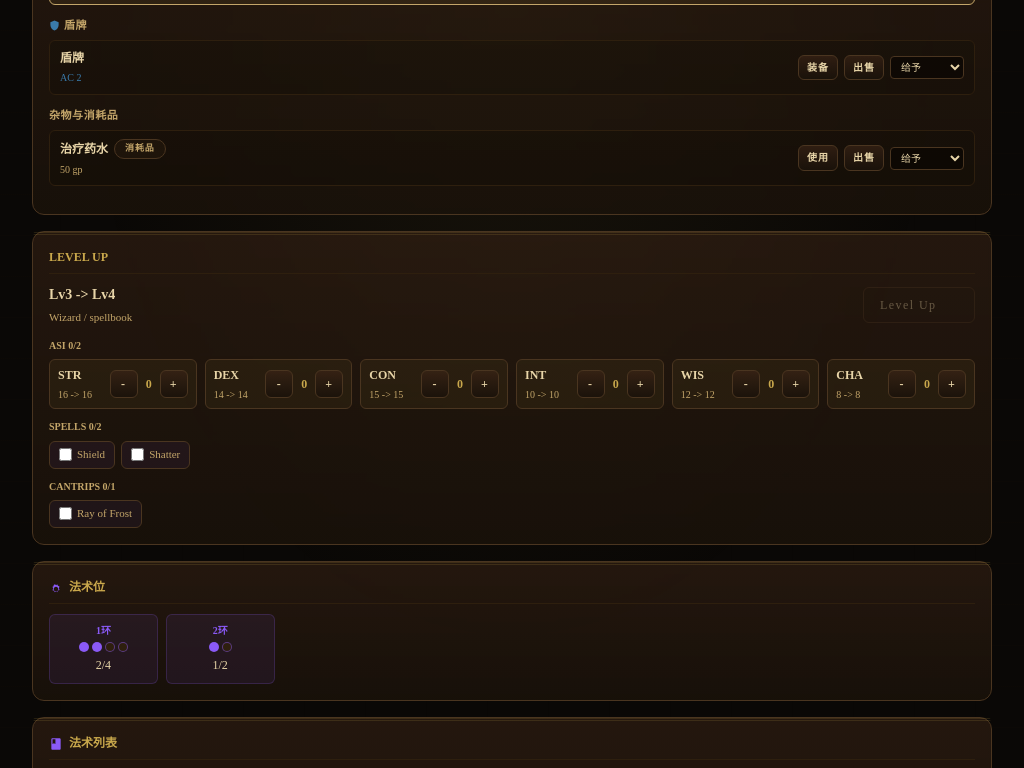
it: CharacterSheet inventory integration › submits selected level-up spell and cantrip choices
(page scrolled)
Expected: the text named "Level 3 to Level 4" reads "Lv3 -> Lv4", x1=49 y1=287 x2=115 y2=302
Step 1. Click the button named "Increase INT" → (641, 384), box x1=627 y1=370 x2=655 y2=398
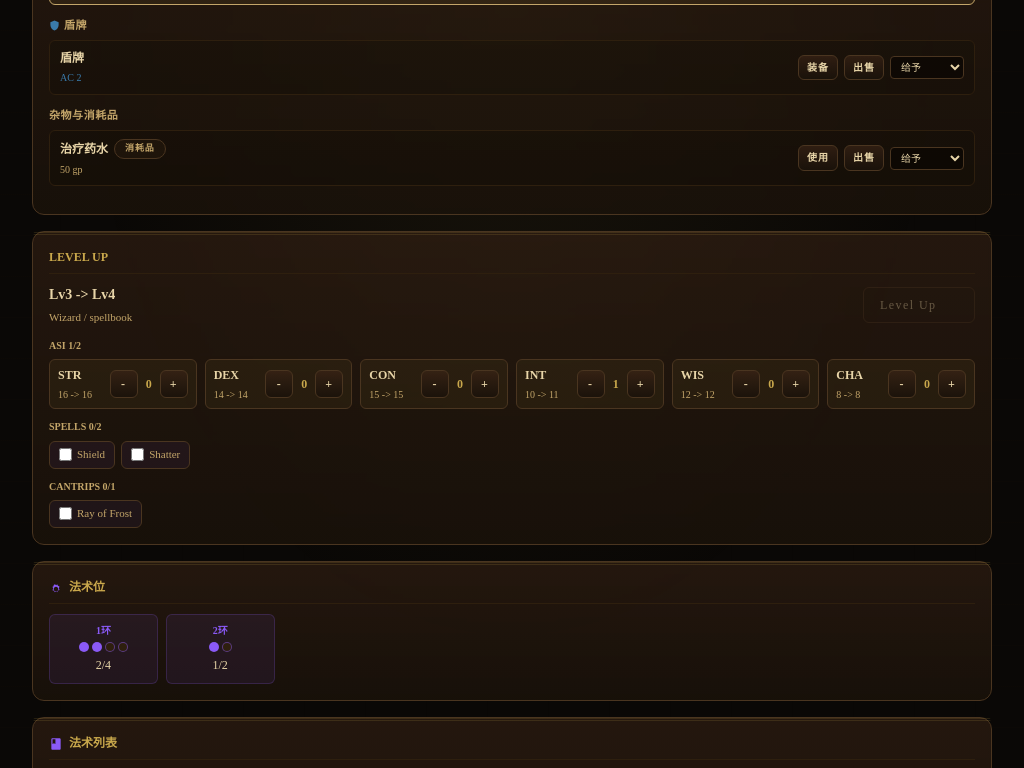
Step 2. Click the button named "Increase INT" → (641, 384), box x1=627 y1=370 x2=655 y2=398
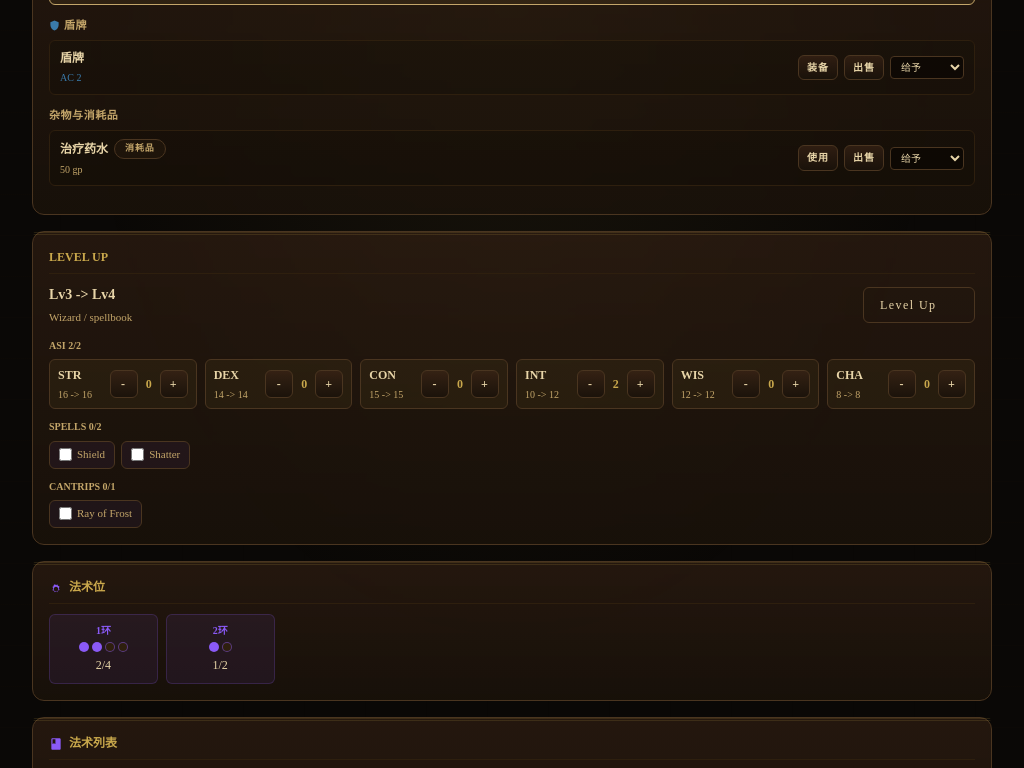
Step 3. Click the checkbox named "Learn Shield" → (66, 454), box x1=59 y1=448 x2=72 y2=461
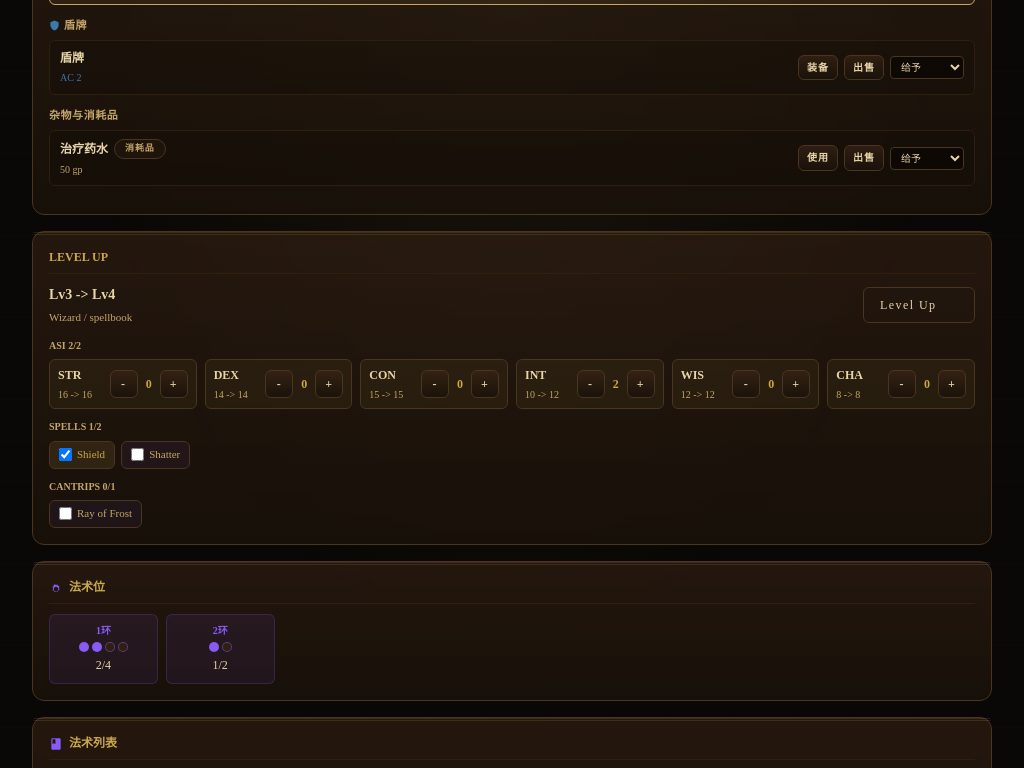
Step 4. Click the checkbox named "Learn Shatter" → (138, 454), box x1=131 y1=448 x2=144 y2=461
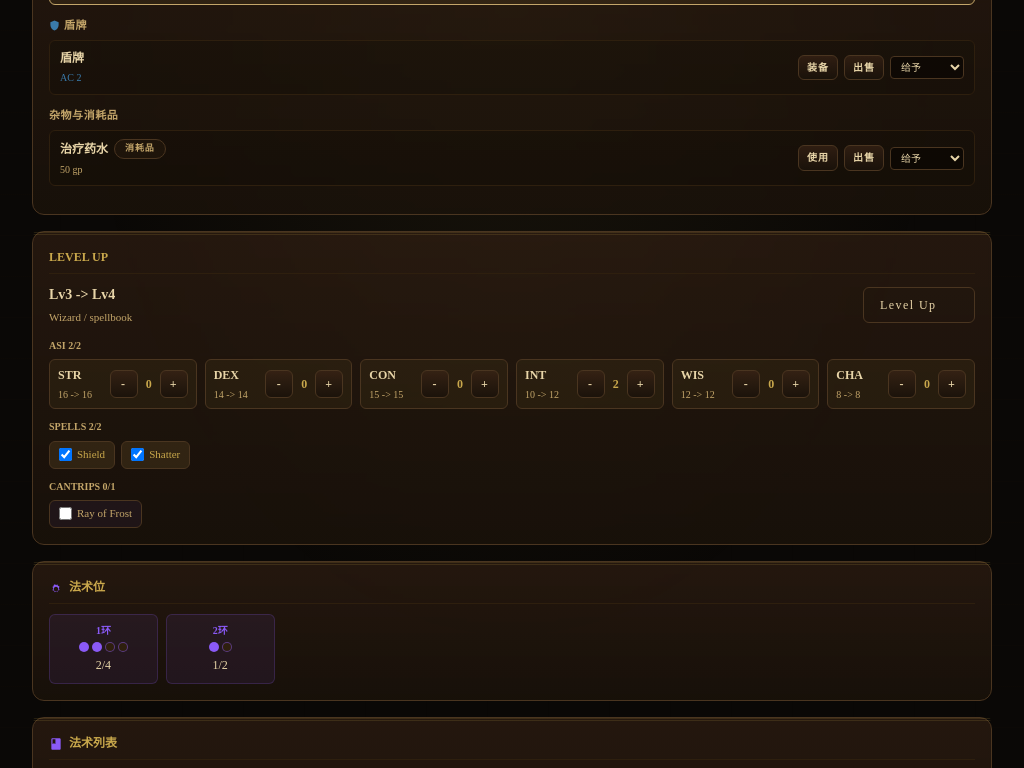
Step 5. Click the checkbox named "Learn cantrip Ray of Frost" → (66, 514), box x1=59 y1=507 x2=72 y2=520
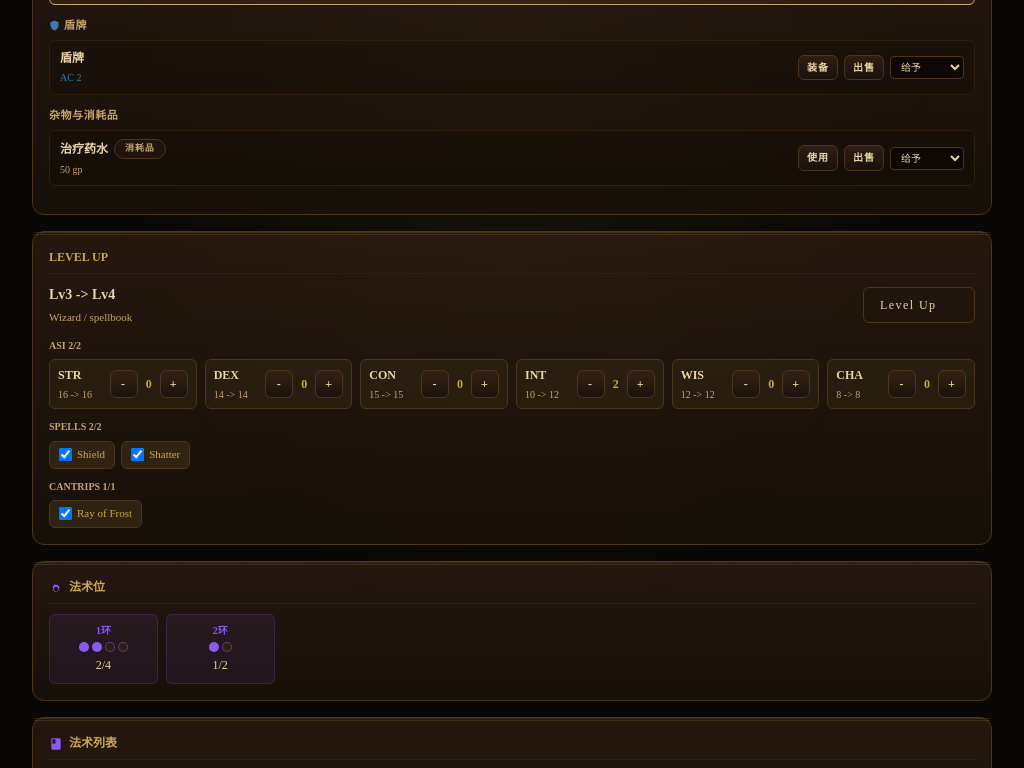
Step 6. Click the button "Level Up" → (919, 305), box x1=863 y1=287 x2=975 y2=323
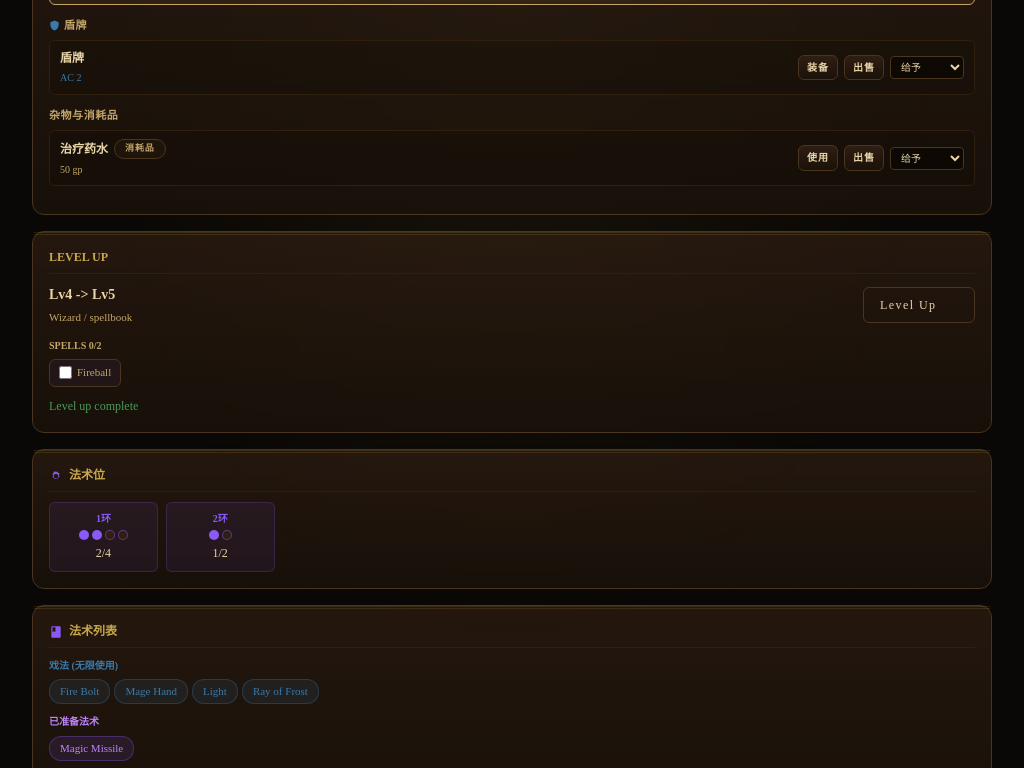
Expected: the message reads "Level up complete", x1=49 y1=399 x2=138 y2=413
